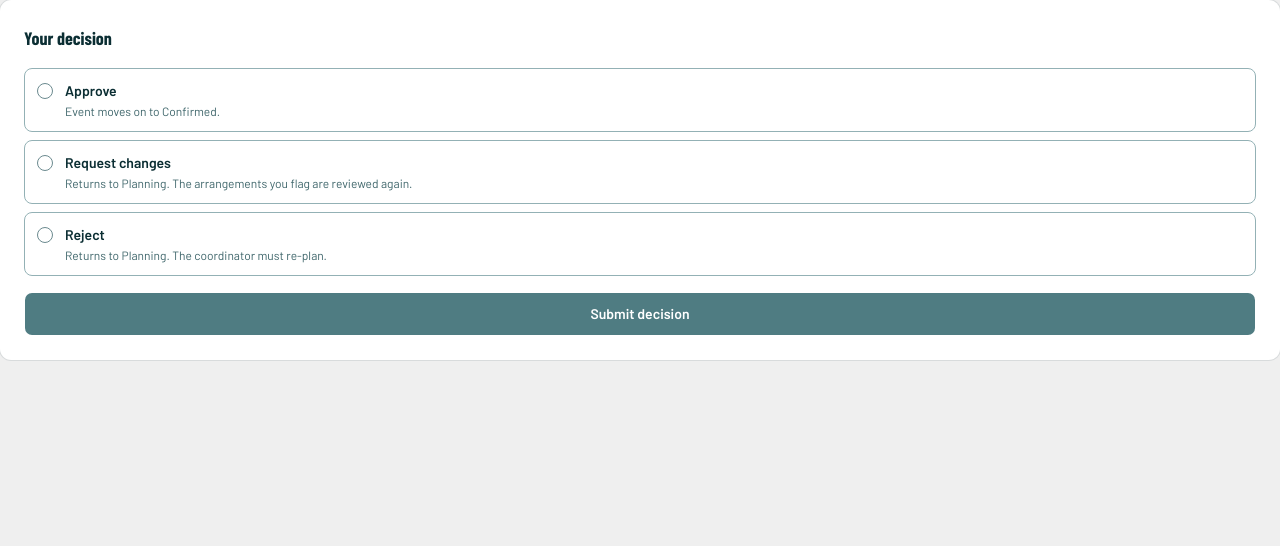
SCRUM-99/AC4 when event-service refuses the decision › SCRUM-99/AC4 shows the refusal and keeps the choices, e.g. when another Safety Officer decided first
Click the radio button next to "Approve": point(45, 91) [37,83,53,99]
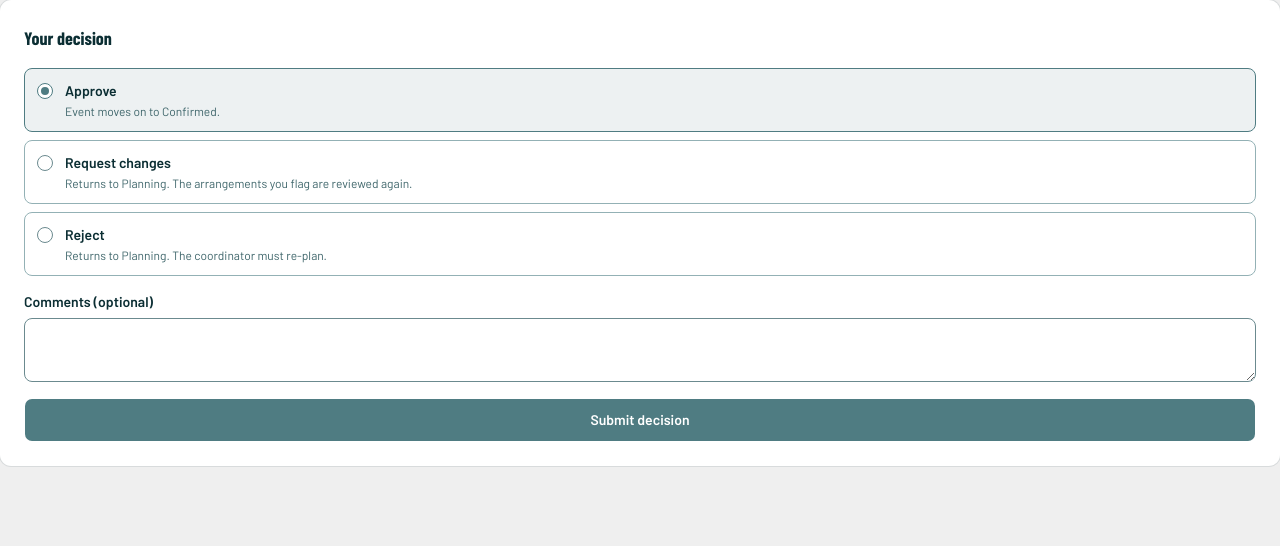
Click the button "Submit decision": point(640, 420) [24,398,1256,442]
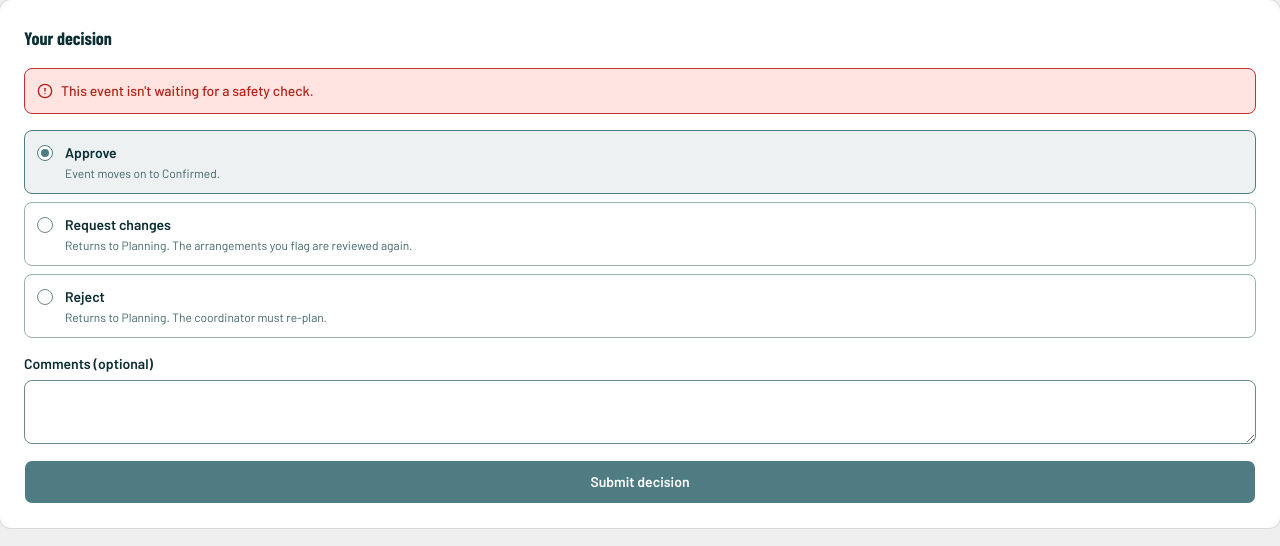
Now the message reads "This event isn't waiting for a safety check.", box [61,82,314,99]
